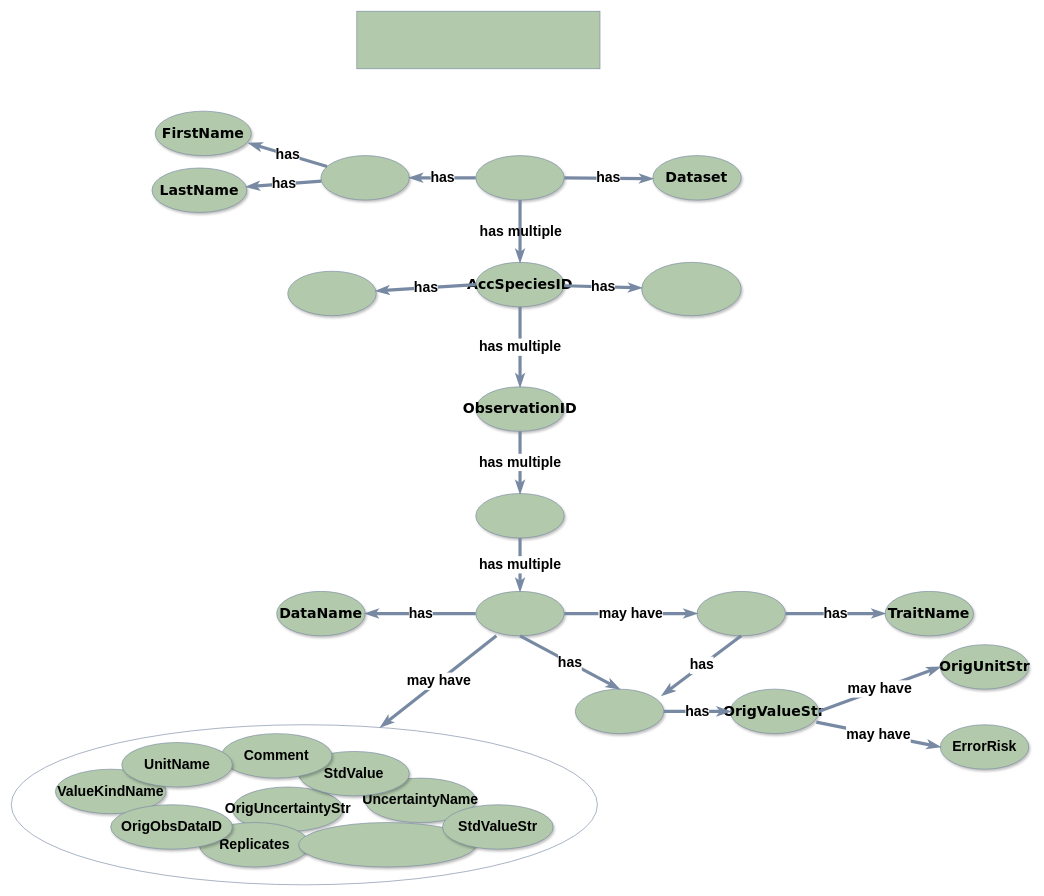
Image size: 1044x896. Some labels were removed from this diagram. The shapes that lost their labels are listed below. From the top down, each one's centre as x and y in pixels, then its label:
the point at 478,40: TRY-db dataset map
the point at 365,178: Reference
the point at 520,178: DatasetID
the point at 332,294: SpeciesName
the point at 691,289: AccSpeciesName
the point at 520,516: ObsDataID
the point at 520,614: DataID
the point at 741,614: TraitID
the point at 620,712: OrigName
the point at 388,845: RelUncertaintyPercent
